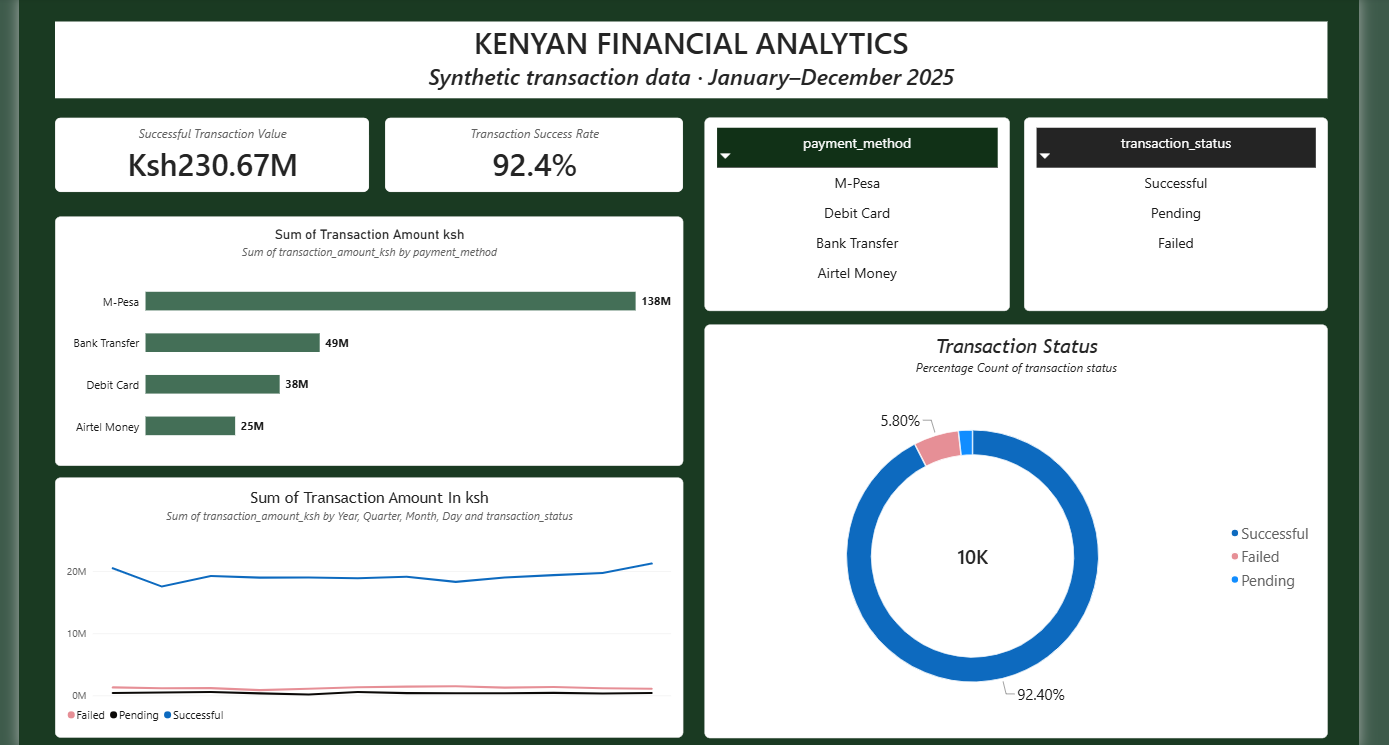

The page's visual inventory and layout, read from the dashboard file:
{"tool":"powerbi","page":{"name":"Page 1","canvas":[1920,1080],"ordinal":0},"visuals":[{"type":"cardVisual","fields":{"Data":["financial_transactions_powerbi.Transaction Success Rate"]},"box":[525,175,427.5,107.5],"z":0},{"type":"clusteredBarChart","title":"Sum of Transaction Amount ksh","fields":{"Category":["financial_transactions_powerbi.payment_method"],"Y":["Sum(financial_transactions_powerbi.transaction_amount_ksh)"]},"box":[52.5,315,900,357.5],"z":1000},{"type":"lineChart","title":"Sum of Transaction Amount In ksh","fields":{"Category":["financial_transactions_powerbi.transaction_month.Variation.Date Hierarchy.Year","financial_transactions_powerbi.transaction_month.Variation.Date Hierarchy.Quarter","financial_transactions_powerbi.transaction_month.Variation.Date Hierarchy.Month","financial_transactions_powerbi.transaction_month.Variation.Date Hierarchy.Day"],"Series":["financial_transactions_powerbi.transaction_status"],"Y":["Sum(financial_transactions_powerbi.transaction_amount_ksh)"]},"box":[52.5,690,900,372.5],"z":2000},{"type":"donutChart","title":"Transaction Status","fields":{"Category":["financial_transactions_powerbi.transaction_status"],"Y":["CountNonNull(financial_transactions_powerbi.transaction_id)"]},"box":[982.5,470,892.5,592.5],"z":3000},{"type":"tableEx","fields":{"Values":["financial_transactions_powerbi.payment_method"]},"box":[982.5,175,437.5,277.5],"z":4000},{"type":"tableEx","fields":{"Values":["financial_transactions_powerbi.transaction_status"]},"box":[1440,175,435,277.5],"z":5000},{"type":"cardVisual","fields":{"Data":["financial_transactions_powerbi.Successful Transaction Value"]},"box":[52.5,175,450,107.5],"z":7000},{"type":"textbox","box":[52.5,37.5,1822.5,110],"z":8000}]}

Visuals, with their boxes in screenshot pixels (x1, y1, x2, y2):
cardVisual - financial_transactions_powerbi.Transaction Success Rate: <box>378,113,679,188</box>
"Sum of Transaction Amount ksh" clusteredBarChart: <box>44,211,679,464</box>
"Sum of Transaction Amount In ksh" lineChart: <box>44,476,679,739</box>
"Transaction Status" donutChart: <box>700,321,1330,739</box>
tableEx - financial_transactions_powerbi.payment_method: <box>700,113,1009,308</box>
tableEx - financial_transactions_powerbi.transaction_status: <box>1023,113,1330,308</box>
cardVisual - financial_transactions_powerbi.Successful Transaction Value: <box>44,113,362,188</box>
textbox: <box>44,16,1330,93</box>
